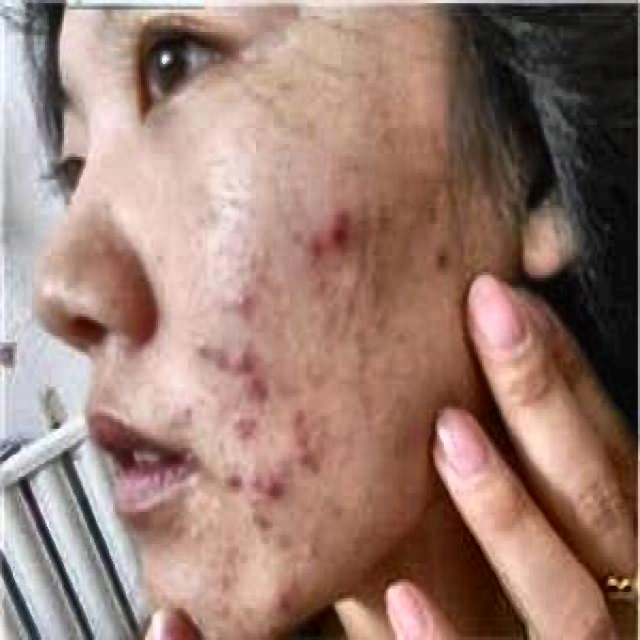pustule: (324, 211, 358, 250), (241, 372, 273, 406), (228, 278, 256, 314), (303, 221, 322, 269), (256, 470, 284, 500), (271, 582, 292, 621), (284, 403, 311, 432), (235, 409, 258, 442), (222, 461, 243, 493), (292, 438, 312, 471), (235, 346, 258, 368), (245, 464, 256, 480)
